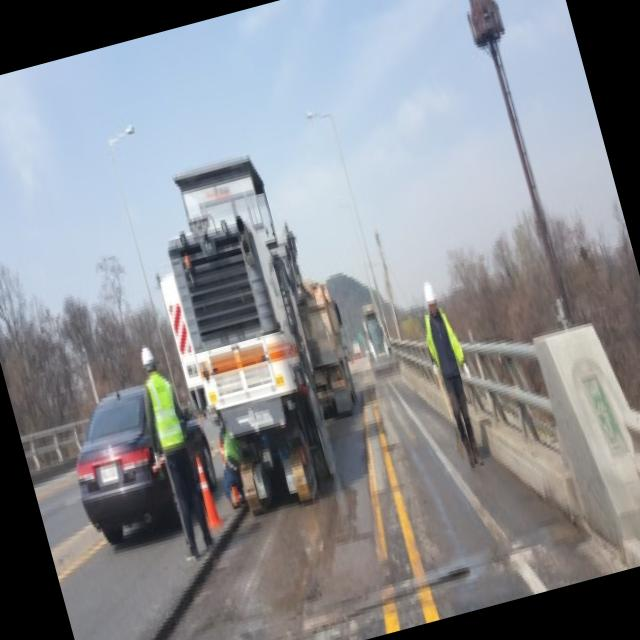asphalt: (168, 374, 623, 640), (33, 470, 192, 640)
